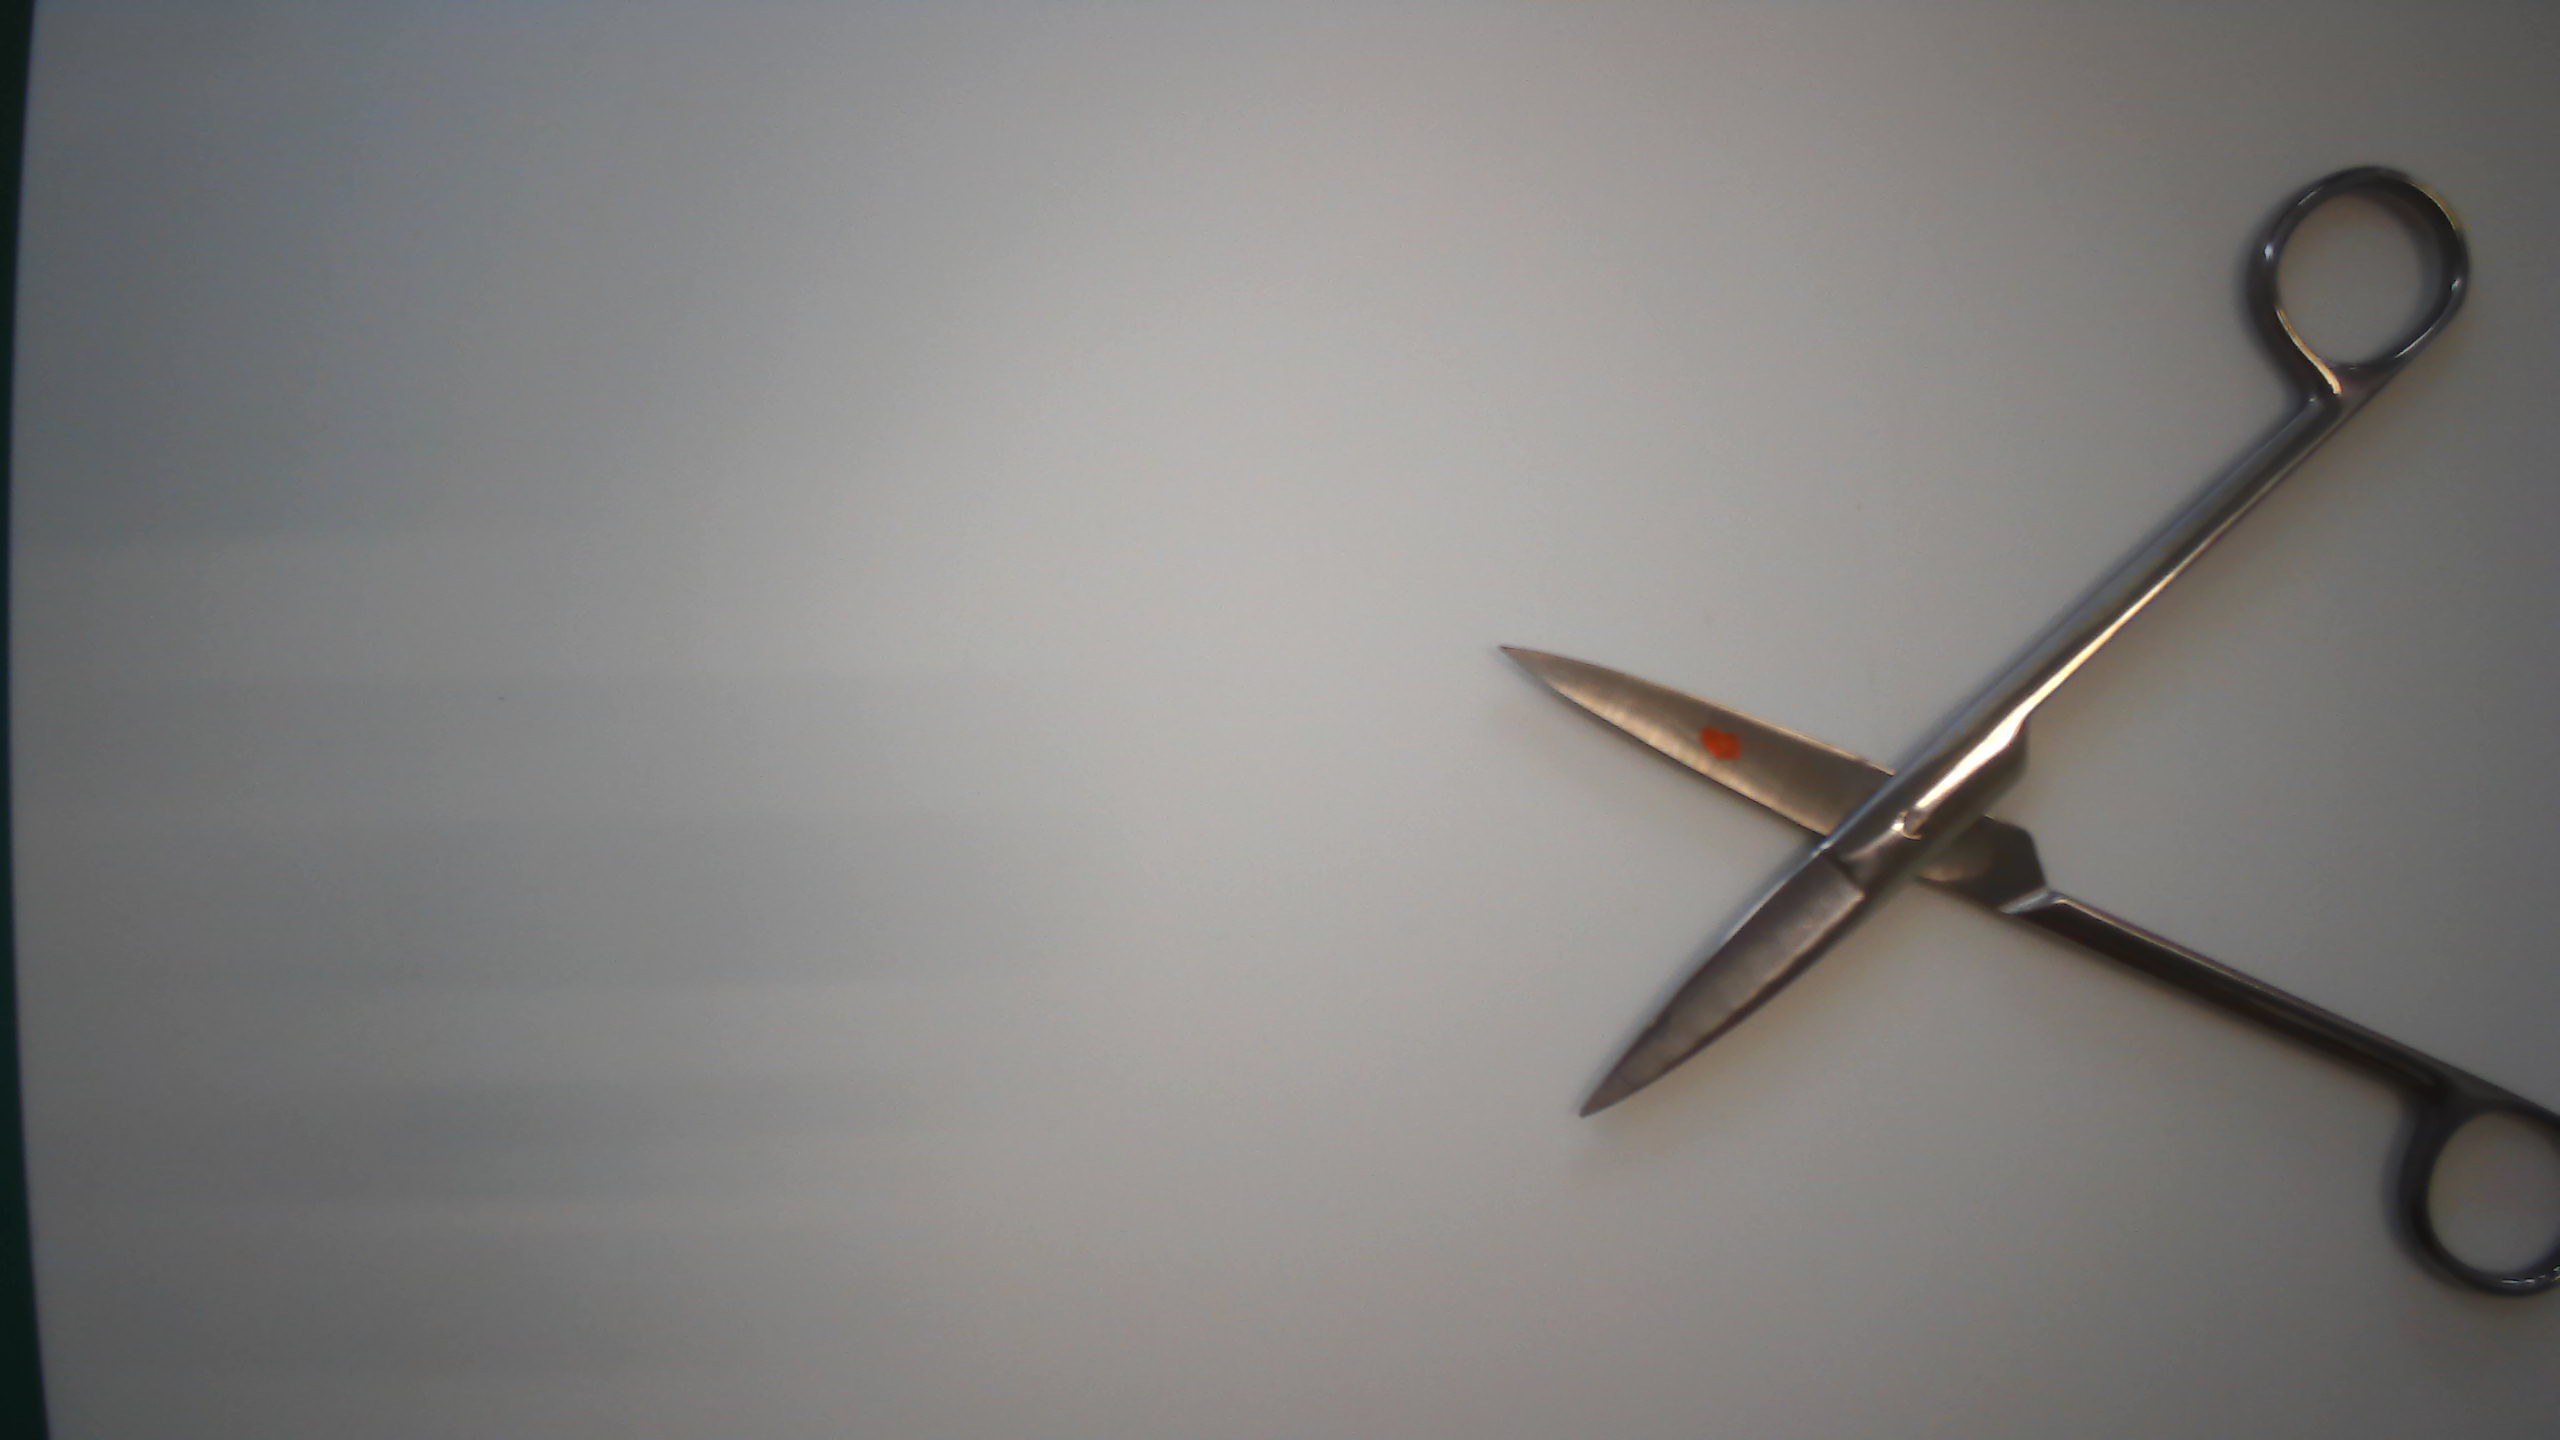Stain: (1690, 710, 1749, 774)
